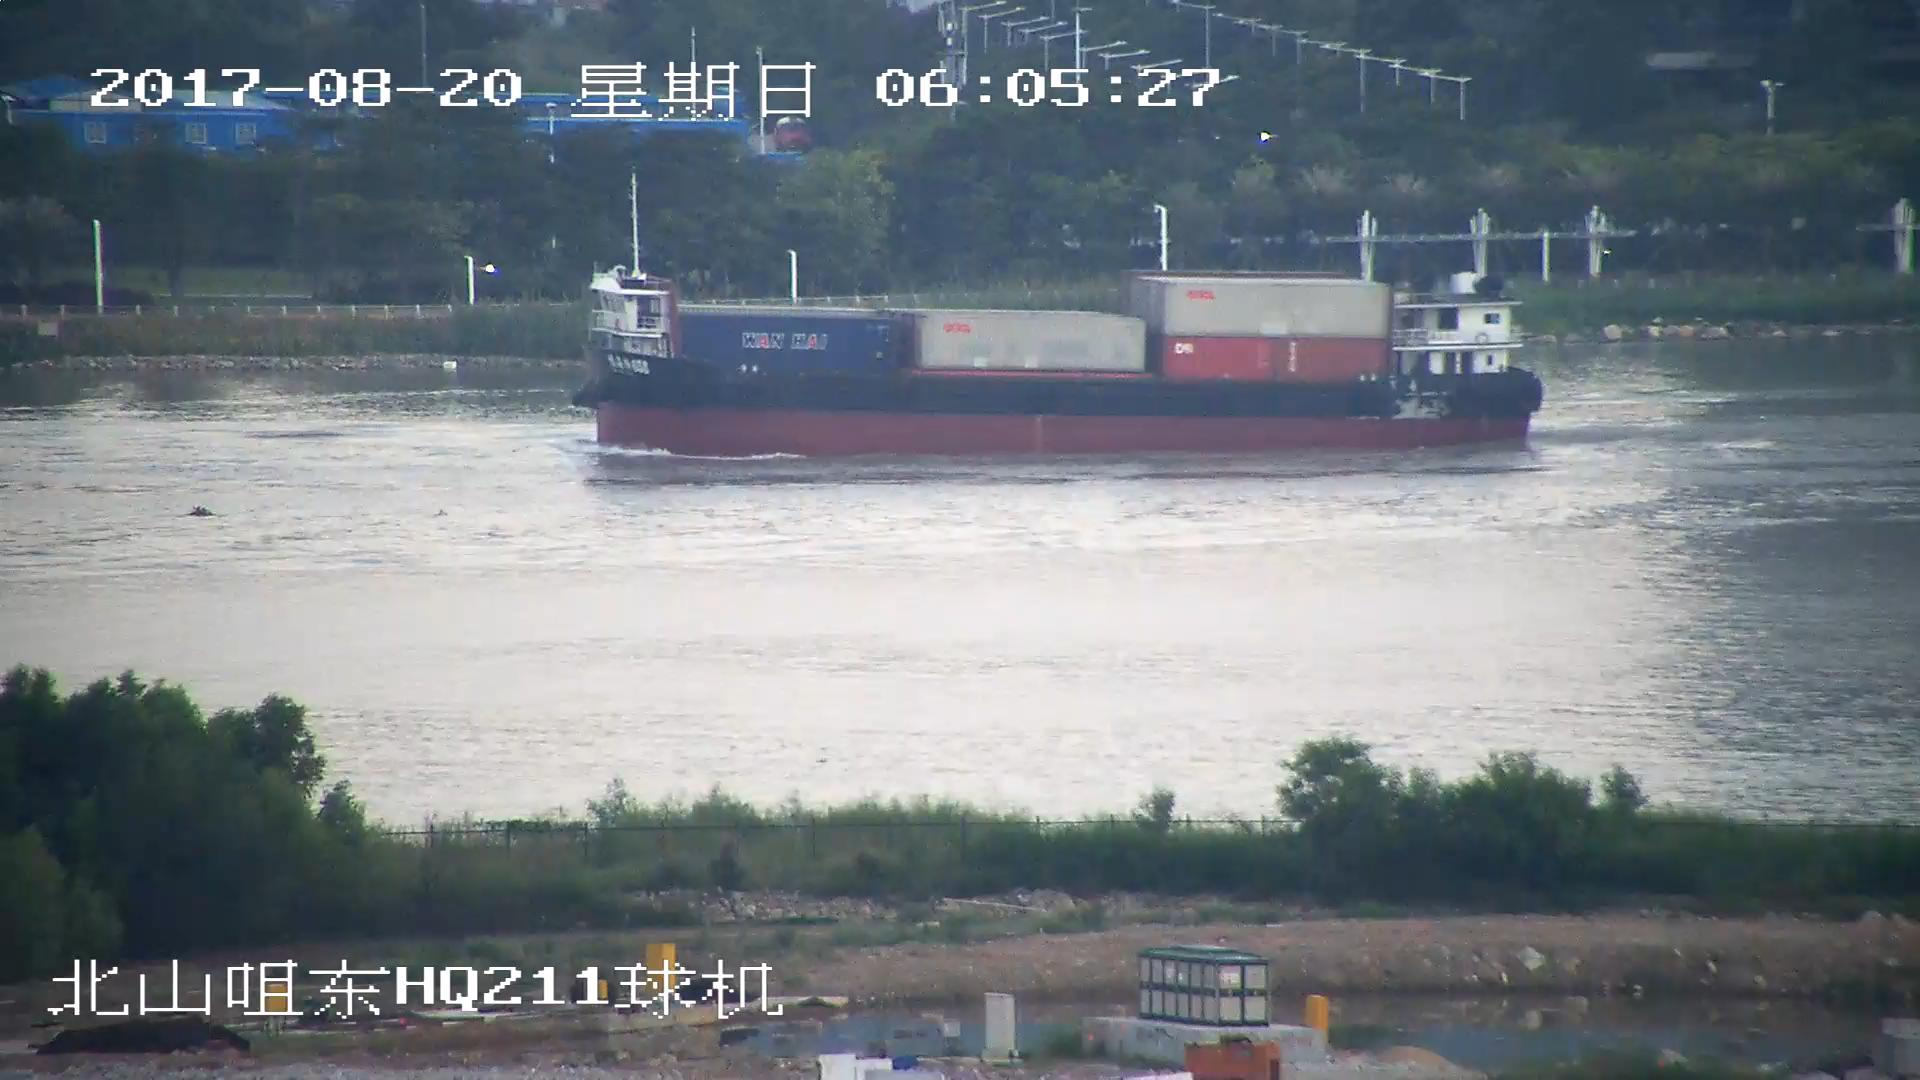Ship: (568, 171, 1545, 458)
